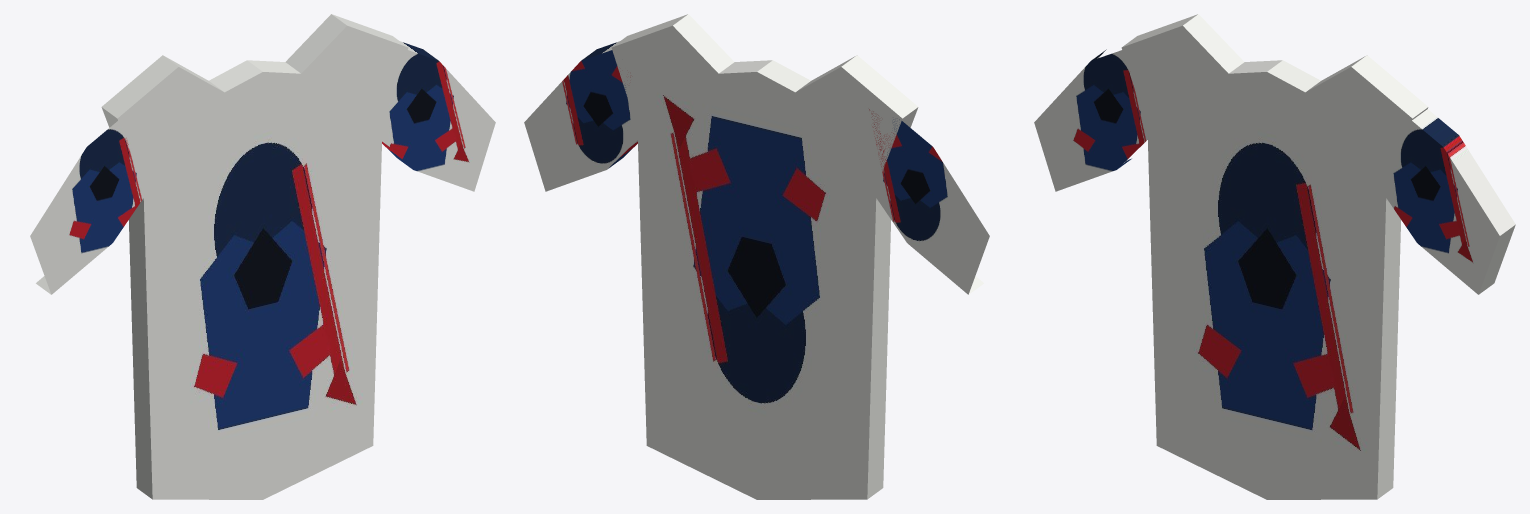
File: vastramm-tee-3d.glb
3 views of the same model, side by side, from view 1: azimuth 30°, elevation 25°; view 2: azimuth 150°, elevation 25°; view 3: azimuth 330°, elevation 25° (orthographic).
Visible parts, largest first — view 1: garment_part_0, garment_part_2, garment_part_1; view 2: garment_part_0, garment_part_1, garment_part_2; view 3: garment_part_0, garment_part_2, garment_part_1.
Boxes of the visible parts, x1,y1,x2,y2 form: garment_part_0: [101, 14, 408, 499]; garment_part_2: [348, 30, 495, 191]; garment_part_1: [30, 71, 177, 294]; garment_part_0: [611, 14, 918, 499]; garment_part_1: [841, 71, 989, 294]; garment_part_2: [524, 31, 670, 191]; garment_part_0: [1121, 14, 1428, 499]; garment_part_2: [1351, 71, 1515, 294]; garment_part_1: [1034, 31, 1181, 191].
Size of the model in its own units: 3.04 by 2.83 by 0.18.
Materials: 1 (1 with a texture image).
